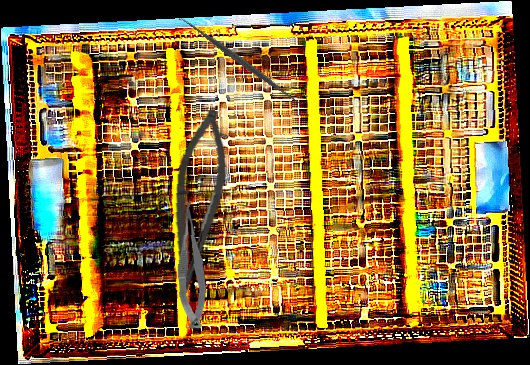Micro Scissor: (163, 107, 234, 301), (175, 199, 210, 329)
Spatula Surgical: (175, 9, 309, 114)
